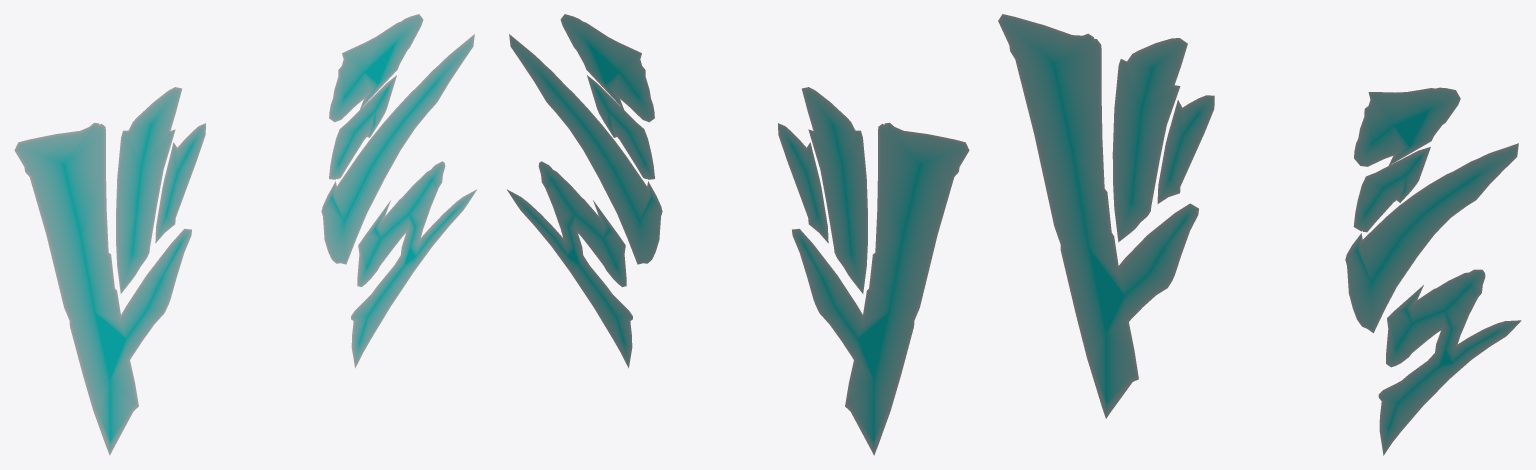
The model's file is SM_EFF_Text_SandShield_02.glb.
3 renders of one model, left to right at view 1: azimuth 30°, elevation 25°; view 2: azimuth 150°, elevation 25°; view 3: azimuth 330°, elevation 25°, orthographic. The views are drawn at different scales.
Parts seen in each view (by area): view 1: SM_EFF_Text_SandShield_02; view 2: SM_EFF_Text_SandShield_02; view 3: SM_EFF_Text_SandShield_02.
Boxes of the visible parts, box(x1,y1,x2,y2) form: SM_EFF_Text_SandShield_02: box(14, 14, 476, 455); SM_EFF_Text_SandShield_02: box(507, 14, 969, 455); SM_EFF_Text_SandShield_02: box(998, 14, 1521, 455).
Bounding box in the file's own units: 0.9959 × 0.753 × 4.61e-17.
